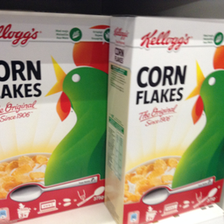cereal: (105, 14, 223, 224), (1, 14, 113, 221)
